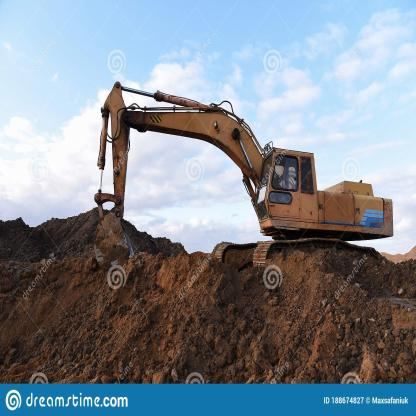excavator: (83, 78, 402, 285)
